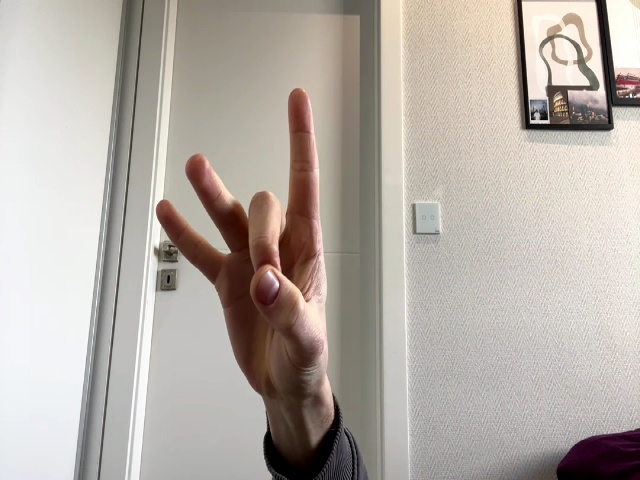G: (156, 88, 330, 391)
